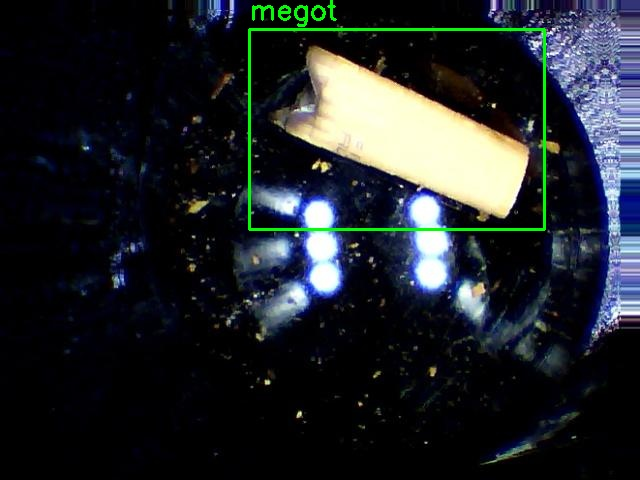megot: (249, 29, 544, 229)
